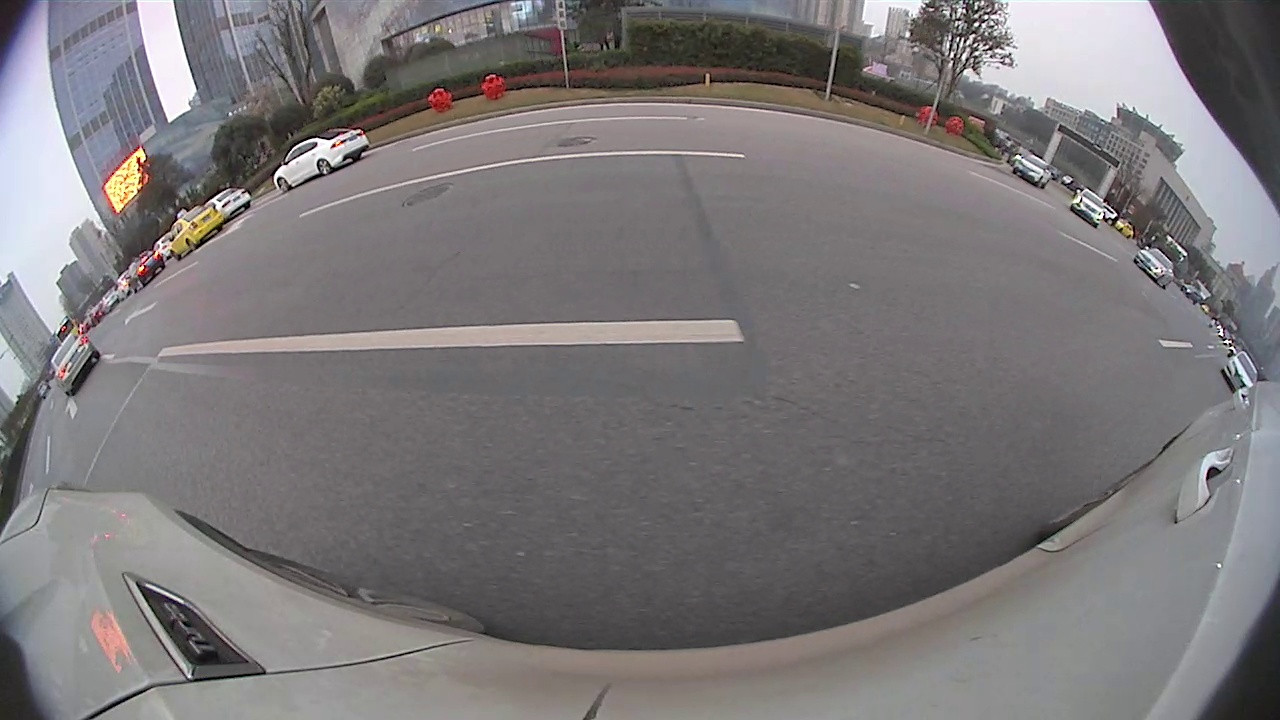car: (270, 127, 370, 198), (167, 202, 230, 262), (48, 331, 102, 400), (1133, 246, 1175, 289), (1219, 350, 1259, 393), (1072, 183, 1106, 231), (1011, 153, 1055, 188), (212, 186, 253, 221)
front: (276, 177, 291, 193), (170, 249, 181, 261)
rear: (316, 158, 332, 176), (185, 238, 198, 251), (350, 150, 362, 162), (213, 222, 224, 233), (242, 200, 252, 210)
